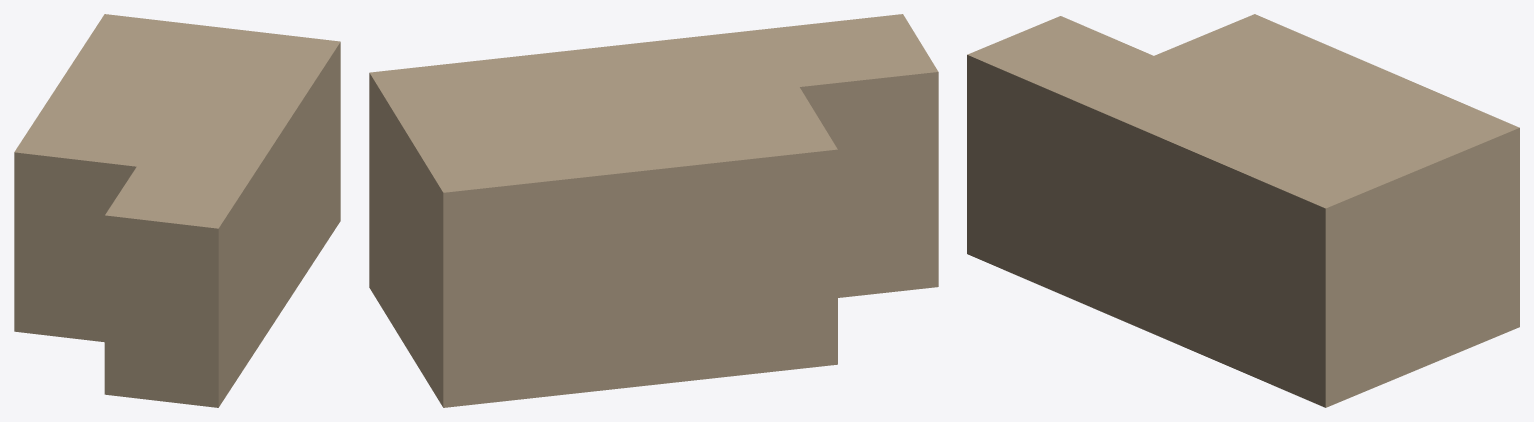
File: bld_55879416.dae
3 renders of one model, left to right at view 1: azimuth 30°, elevation 25°; view 2: azimuth 150°, elevation 25°; view 3: azimuth 270°, elevation 25°, orthographic. The views are drawn at different scales.
Parts seen in each view (by area): view 1: bld_55879416; view 2: bld_55879416; view 3: bld_55879416.
Boxes of the visible parts, x1=… form: bld_55879416: x1=14, y1=14, x2=340, y2=407; bld_55879416: x1=369, y1=14, x2=938, y2=407; bld_55879416: x1=967, y1=14, x2=1519, y2=407.
Bounding box in the file's own units: 16.74 × 20.09 × 8.
